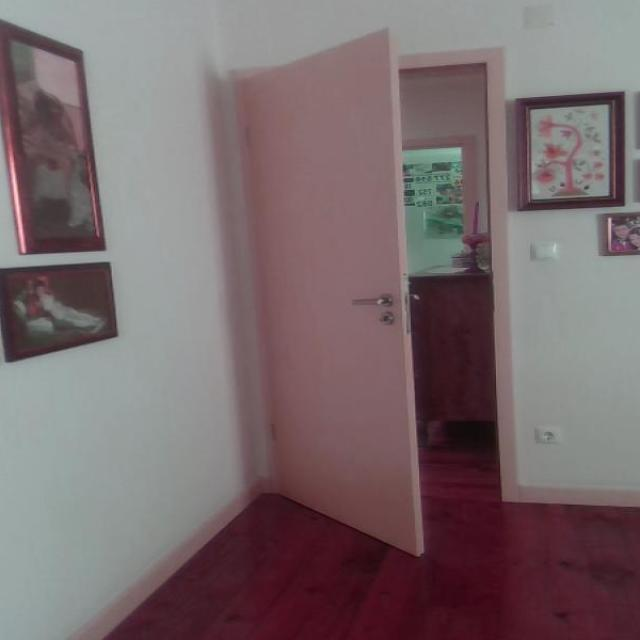door: (230, 26, 425, 557)
